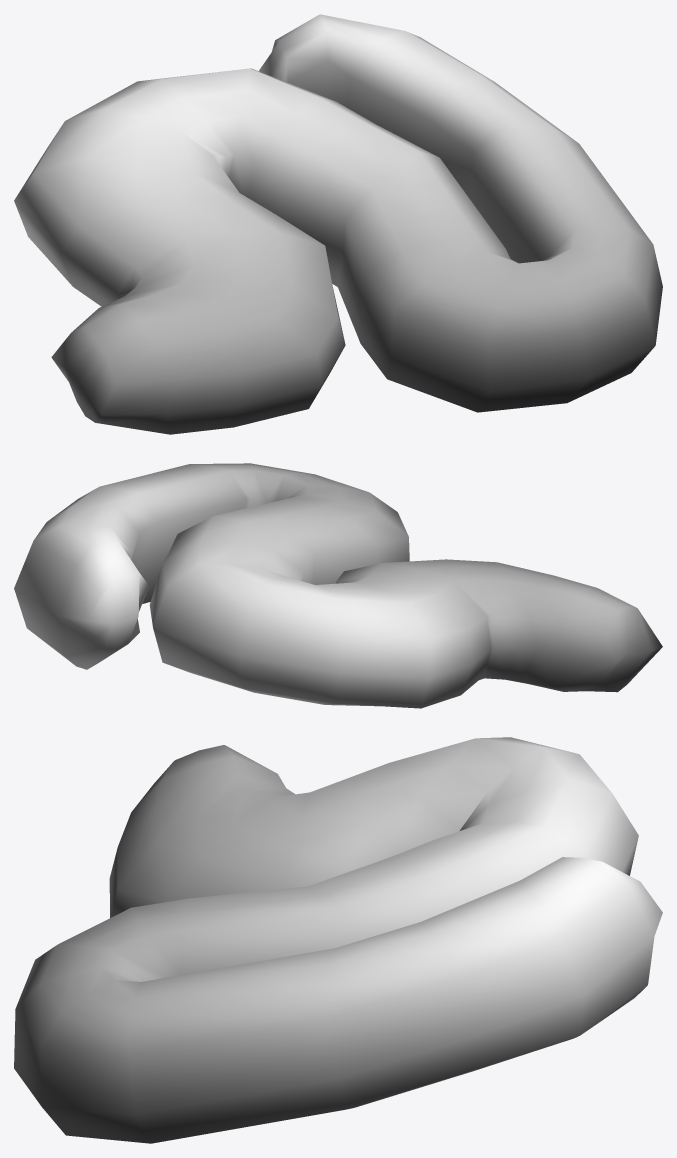
Rendered from BrainPiece1.fbx.
3 renders of one model, top to bottom at view 1: azimuth 30°, elevation 25°; view 2: azimuth 150°, elevation 25°; view 3: azimuth 270°, elevation 25°, orthographic. The views are drawn at different scales.
Parts seen in each view (by area): view 1: BrainPiece1; view 2: BrainPiece1; view 3: BrainPiece1.
Boxes of the visible parts, bbox=[...] form: BrainPiece1: bbox=[14, 14, 662, 434]; BrainPiece1: bbox=[14, 463, 662, 708]; BrainPiece1: bbox=[14, 737, 662, 1143].
Size of the model in its own units: 3.27 by 1.18 by 2.85.
